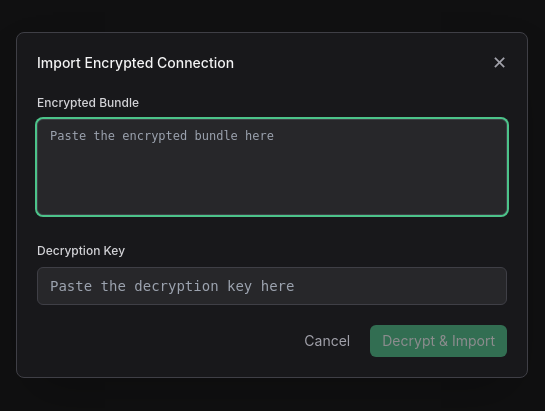
ImportEncryptedOverlay › clears error when user types in bundle field
Trigger error
Step 1. Type "x" into the text box with placeholder "Paste the encrypted bundle here" → (272, 167), box x1=37 y1=119 x2=507 y2=215
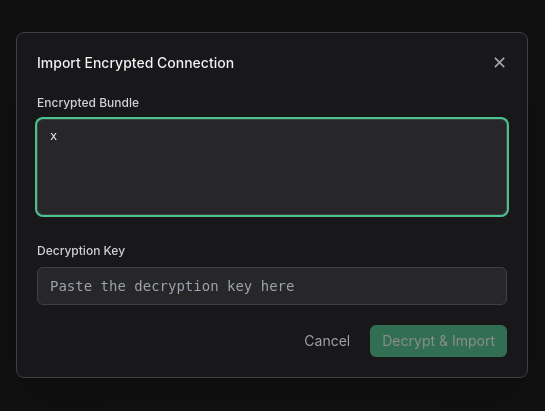
Step 2. Type "y" into the field with placeholder "Paste the decryption key here" → (272, 286), box x1=37 y1=267 x2=507 y2=305
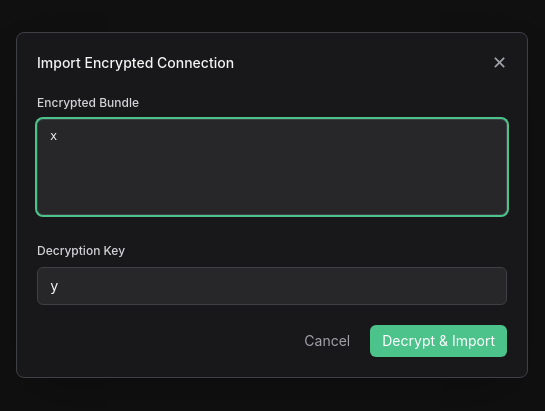
Step 3. Click the button "Decrypt & Import" → (439, 341), box x1=370 y1=325 x2=507 y2=357
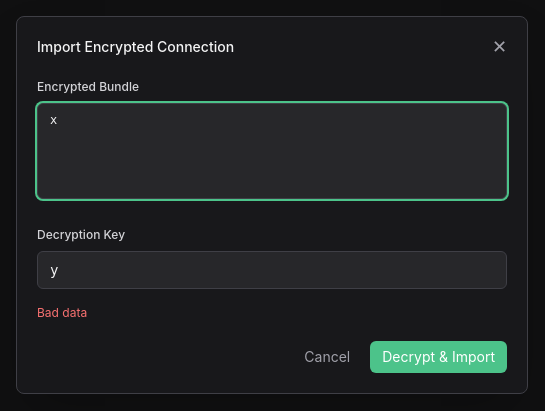
Expected: the text "Bad data" is shown, x1=37 y1=305 x2=87 y2=320
Type in bundle field — error should clear
Step 4. Replace the text in the text box with placeholder "Paste the encrypted bundle here" with "new-value" → (272, 151), box x1=37 y1=103 x2=507 y2=199
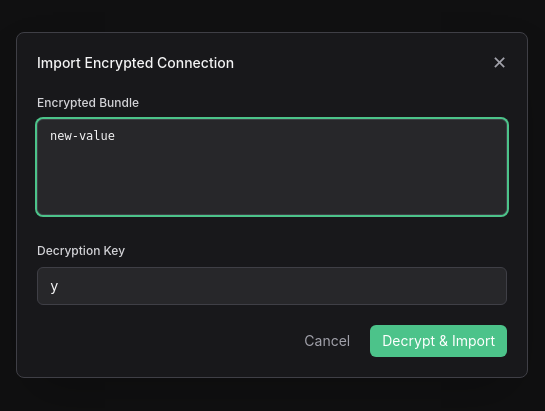
Expected: the text "Bad data" is gone
